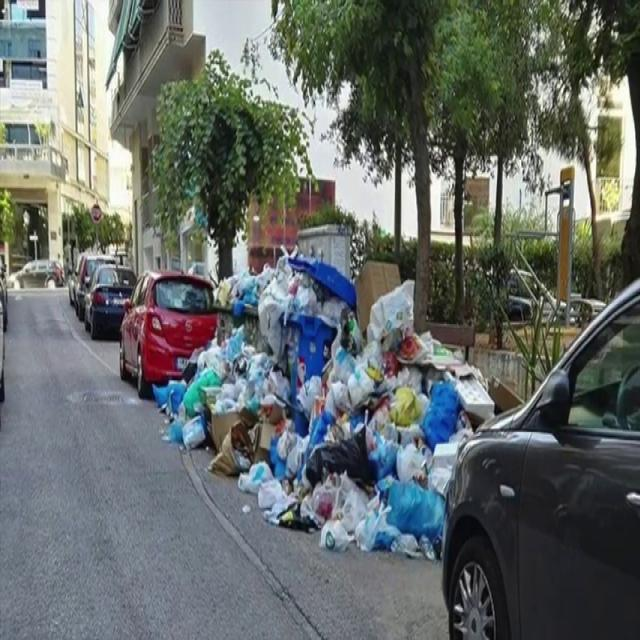garbage: (153, 296, 506, 556)
